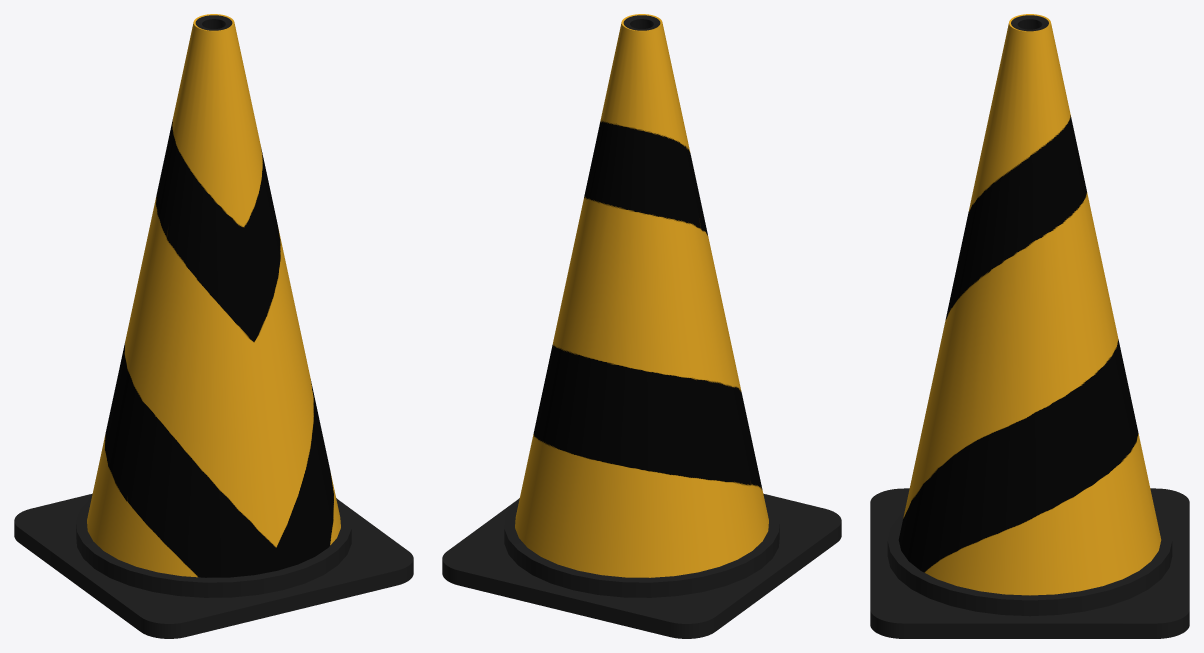
The model's file is 黄色コーン.fbx.
3 renders of one model, left to right at view 1: azimuth 30°, elevation 25°; view 2: azimuth 150°, elevation 25°; view 3: azimuth 270°, elevation 25°, orthographic. The views are drawn at different scales.
Parts seen in each view (by area): view 1: corn_yB.001; view 2: corn_yB.001; view 3: corn_yB.001.
Boxes of the visible parts, x1=… form: corn_yB.001: x1=14, y1=14, x2=413, y2=638; corn_yB.001: x1=442, y1=14, x2=841, y2=638; corn_yB.001: x1=870, y1=14, x2=1189, y2=638.
Size of the model in its own units: 35.91 by 68.02 by 35.91.
